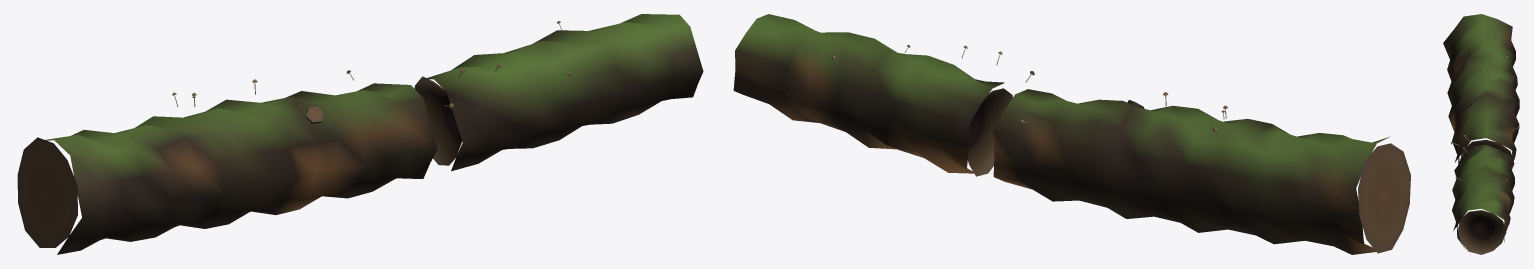
The model's file is log-rotten-b.lod0.glb.
3 views of the same model, side by side, from view 1: azimuth 30°, elevation 25°; view 2: azimuth 150°, elevation 25°; view 3: azimuth 270°, elevation 25° (orthographic). The views are drawn at different scales.
Size of the model in its own units: 2.98 by 0.5975 by 0.5257.
